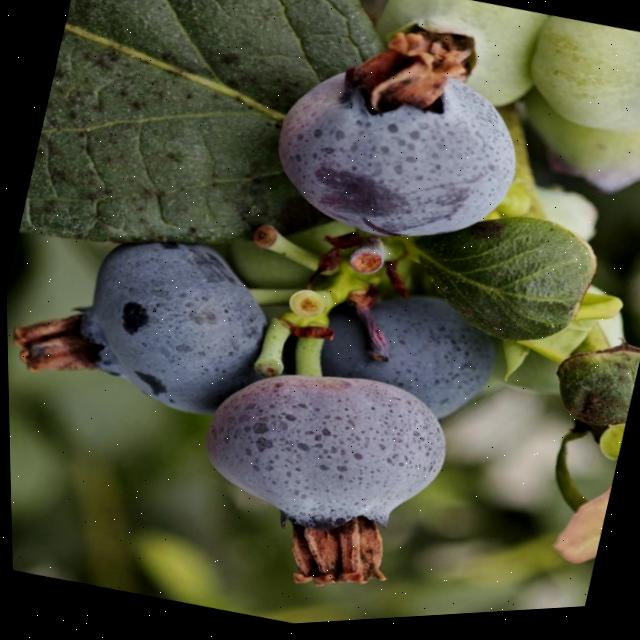RipeBlueBerry: (251, 23, 540, 278), (19, 209, 288, 442), (297, 274, 508, 444)
Semi-RipeBlueBerry: (172, 339, 463, 590)
UnripeBlueBerry: (516, 15, 640, 164)
